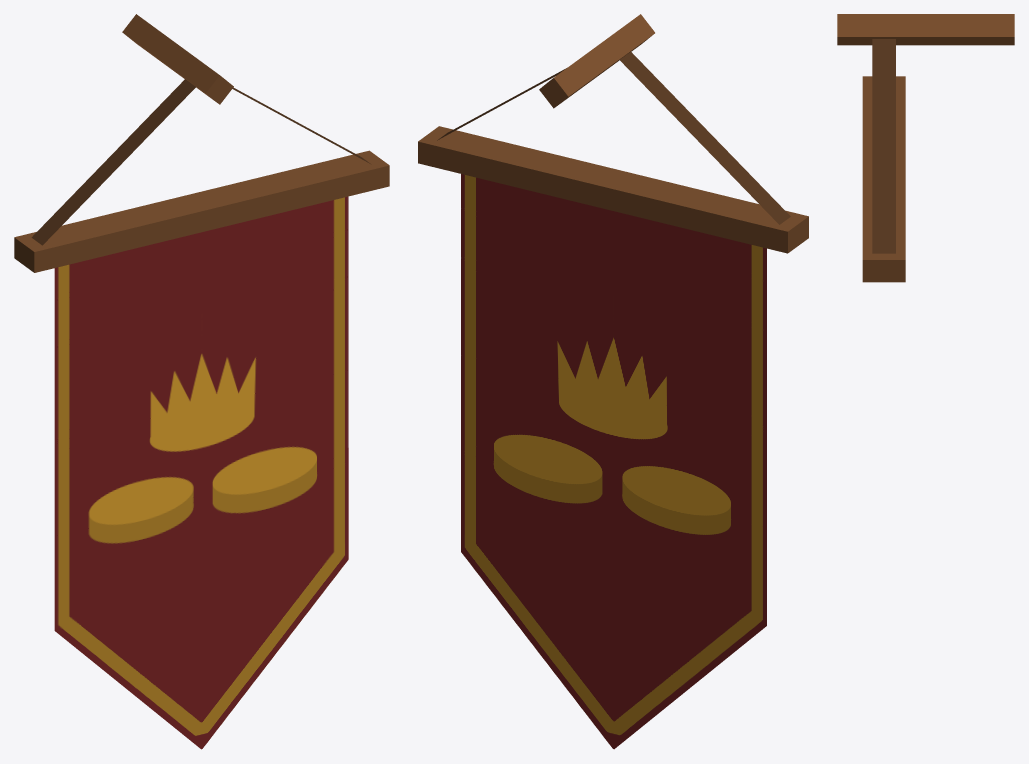
File: Banner.fbx
3 views of the same model, side by side, from view 1: azimuth 30°, elevation 25°; view 2: azimuth 150°, elevation 25°; view 3: azimuth 270°, elevation 25° (orthographic). The views are drawn at different scales.
Parts seen in each view (by area): view 1: banner; view 2: banner; view 3: banner.
Part boxes in pixels (x1,y1,x2,y2): banner: [14, 14, 389, 749]; banner: [418, 14, 808, 749]; banner: [837, 14, 1014, 282].
Size of the model in its own units: 1.16 by 2.15 by 0.472.
